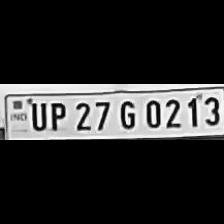0: (140, 96, 162, 128)
1: (182, 94, 198, 128)
2: (70, 98, 92, 132), (162, 95, 182, 129)
3: (202, 93, 220, 126)
7: (91, 97, 111, 131)
G: (115, 96, 137, 130)
P: (46, 99, 68, 131)
U: (28, 99, 46, 131)
